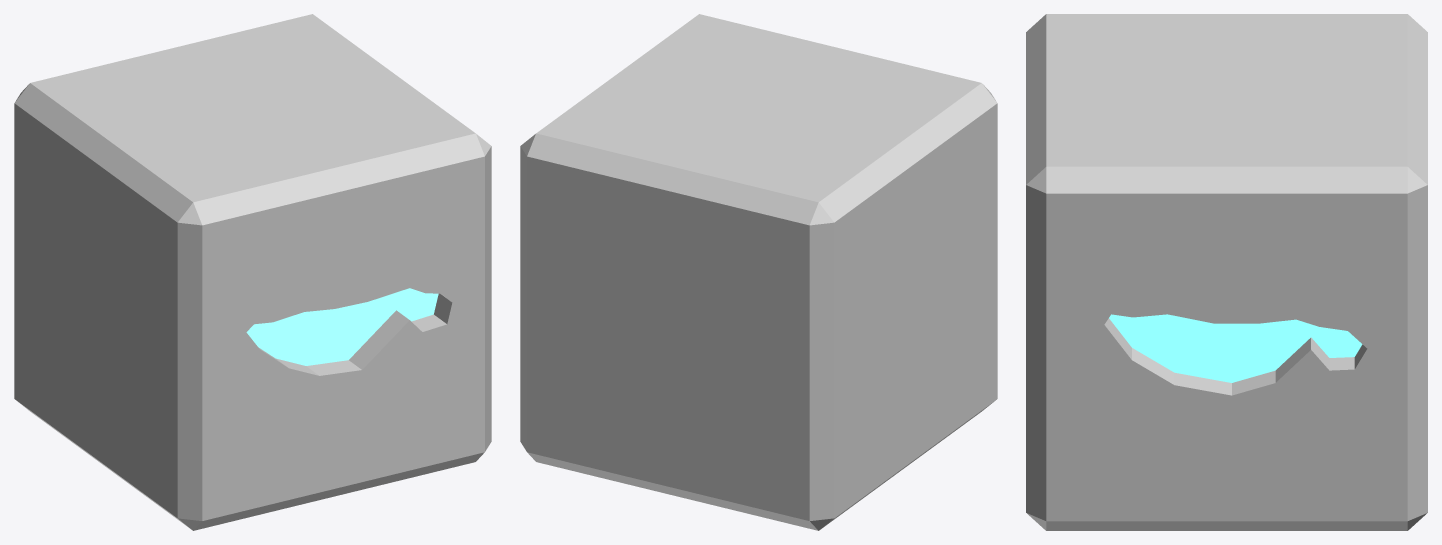
File: Kuptas.fbx
3 views of the same model, side by side, from view 1: azimuth 30°, elevation 25°; view 2: azimuth 150°, elevation 25°; view 3: azimuth 270°, elevation 25° (orthographic). The views are drawn at different scales.
Visible parts, largest first — view 1: Cube.011; view 2: Cube.011; view 3: Cube.011.
Boxes of the visible parts, x1=… form: Cube.011: x1=14, y1=14, x2=491, y2=530; Cube.011: x1=520, y1=14, x2=997, y2=530; Cube.011: x1=1026, y1=14, x2=1427, y2=530.
Bounding box in the file's own units: 119 × 119 × 119.
